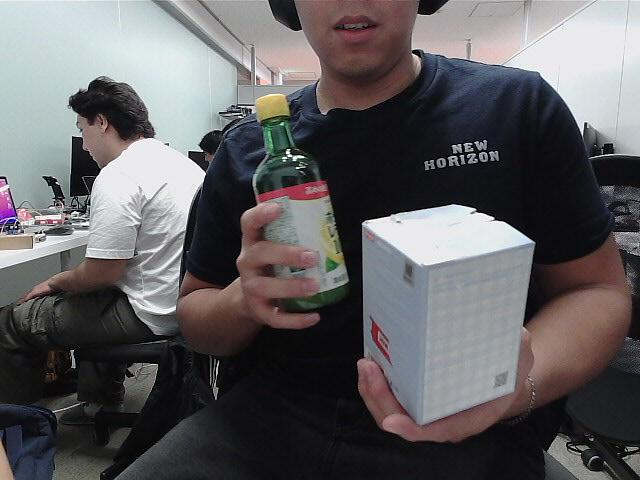Blind_box: (356, 205, 535, 427)
Lemon_sapporo: (238, 94, 351, 320)
